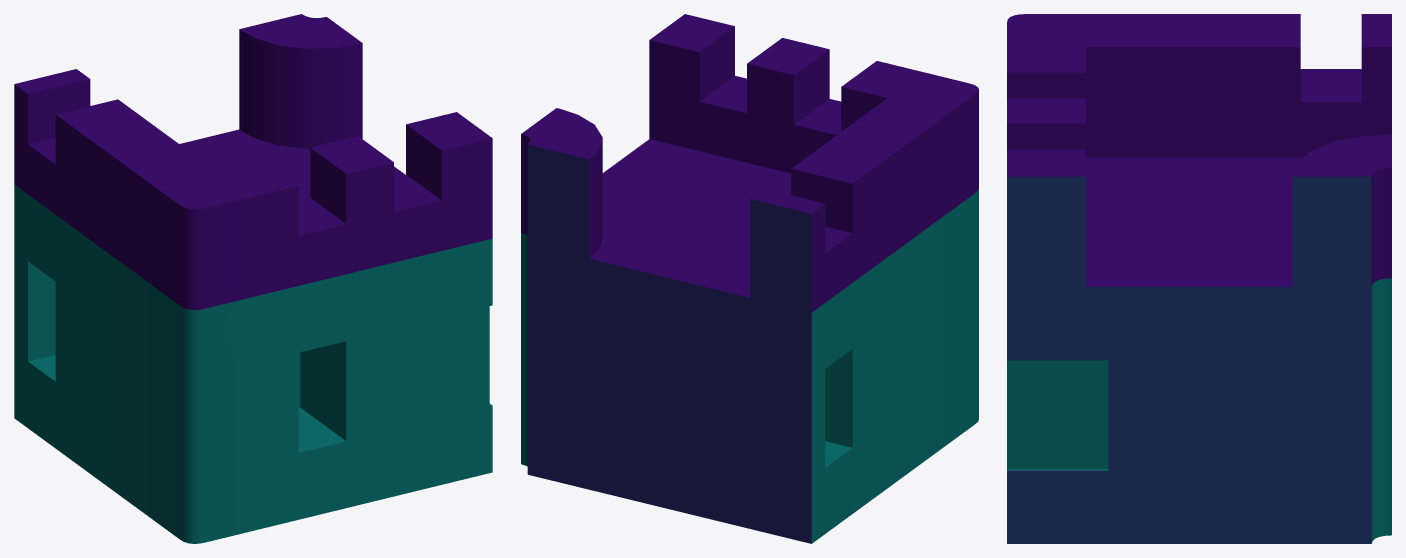
Rendered from Roof_03_L_B.fbx.
3 views of the same model, side by side, from view 1: azimuth 30°, elevation 25°; view 2: azimuth 150°, elevation 25°; view 3: azimuth 270°, elevation 25° (orthographic). The views are drawn at different scales.
Parts seen in each view (by area): view 1: 3, 1, 4, 2; view 2: 4, 2, 3, 1; view 3: 2, 1, 4, 3.
Boxes of the visible parts, x1,y1,x2,y2 form: 3: (106,136,332,543); 1: (298,112,492,511); 4: (14,69,168,485); 2: (179,14,404,200); 4: (669,132,902,543); 2: (521,108,749,509); 3: (785,61,978,476); 1: (603,14,841,208); 2: (1189,134,1391,543); 1: (1007,98,1189,543); 4: (1189,14,1391,201); 3: (1007,14,1189,201).
Bounding box in the file's own units: 190 × 200 × 190.
